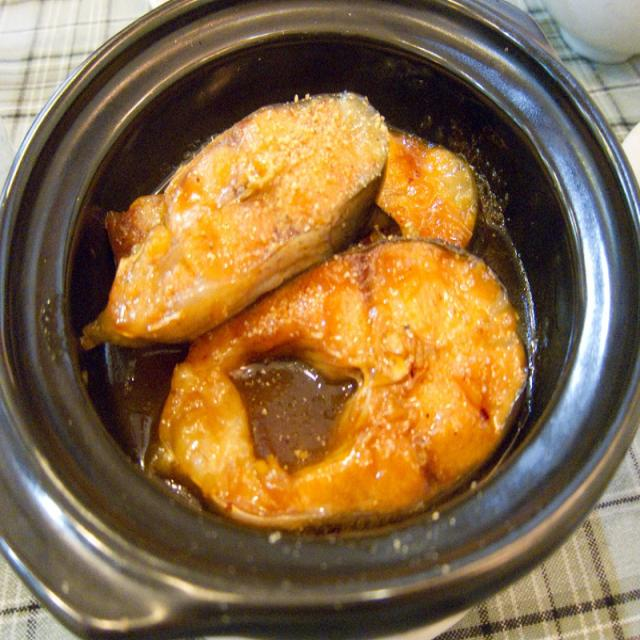ca kho: (81, 94, 526, 524)
